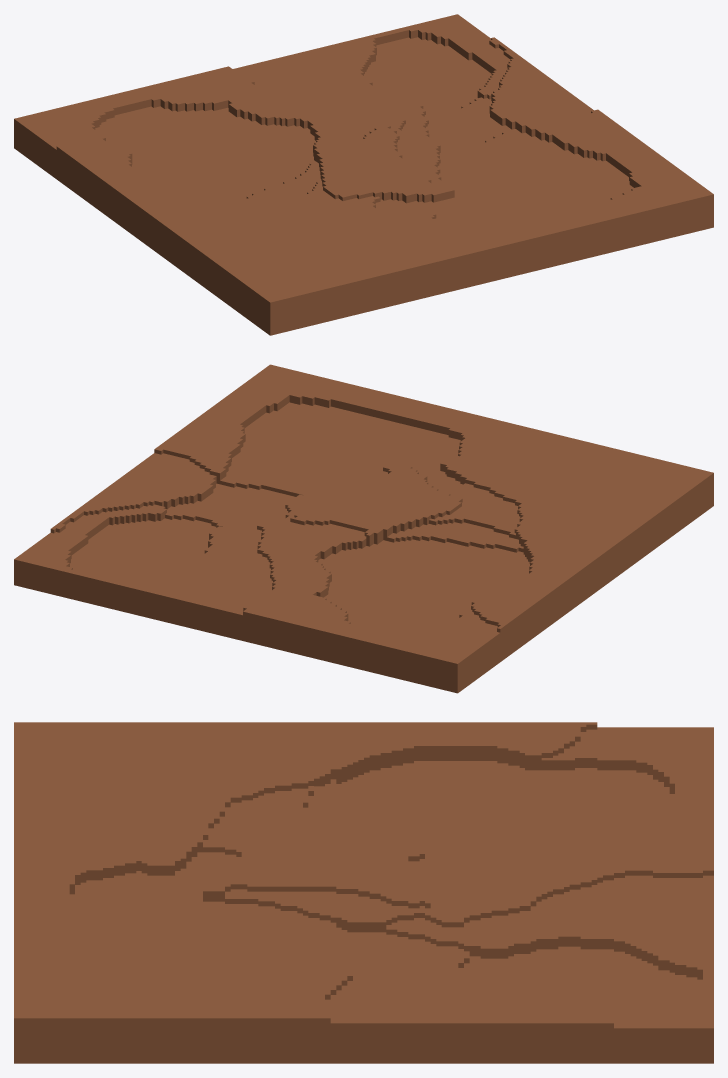
The model's file is world1_Ground.fbx.
3 views of the same model, one above another, from view 1: azimuth 30°, elevation 25°; view 2: azimuth 150°, elevation 25°; view 3: azimuth 270°, elevation 25° (orthographic). The views are drawn at different scales.
Parts seen in each view (by area): view 1: terrain_monde1:Mesh; view 2: terrain_monde1:Mesh; view 3: terrain_monde1:Mesh.
Boxes of the visible parts, left/top/right/bottom form: terrain_monde1:Mesh: left=14, top=14, right=713, bottom=335; terrain_monde1:Mesh: left=14, top=364, right=713, bottom=693; terrain_monde1:Mesh: left=14, top=722, right=713, bottom=1063.
Bounding box in the file's own units: 126 × 9 × 126.
